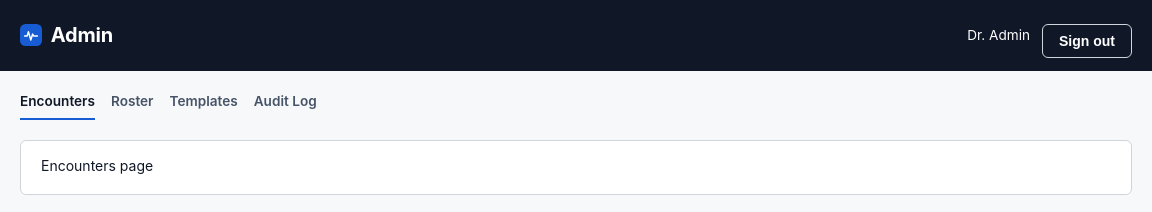
AdminShell / AdminRoute › navigates between sections when nav links are clicked
Click the link "Roster" at (132, 101), box [111,93,154,109]
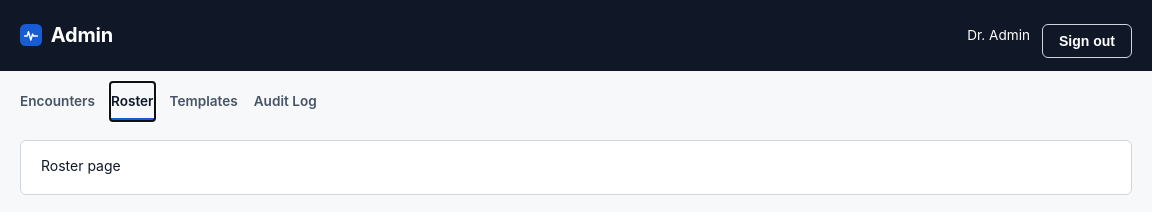
Expected: the text "Roster page" is shown, [41,157,121,174]
Click the link "Templates" at (204, 101), box [170,93,238,109]
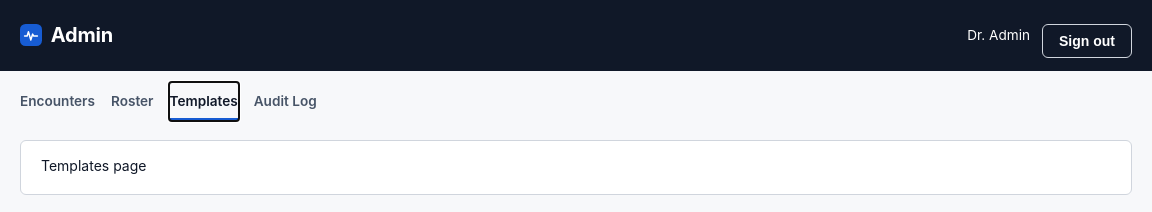
Expected: the text "Templates page" is shown, [41,157,146,174]
Click the link "Audit Log" at (285, 101), box [254,93,317,109]
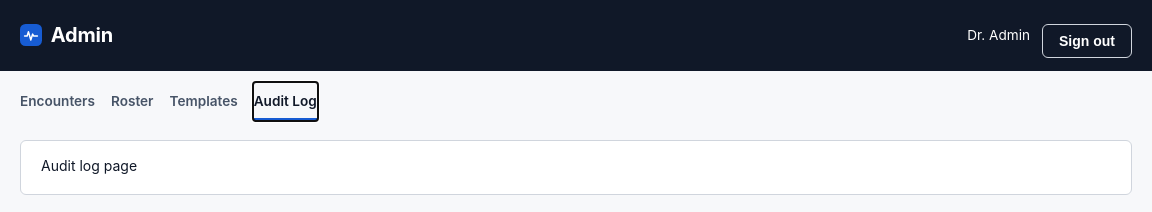
Expected: the text "Audit log page" is shown, [41,157,137,174]
